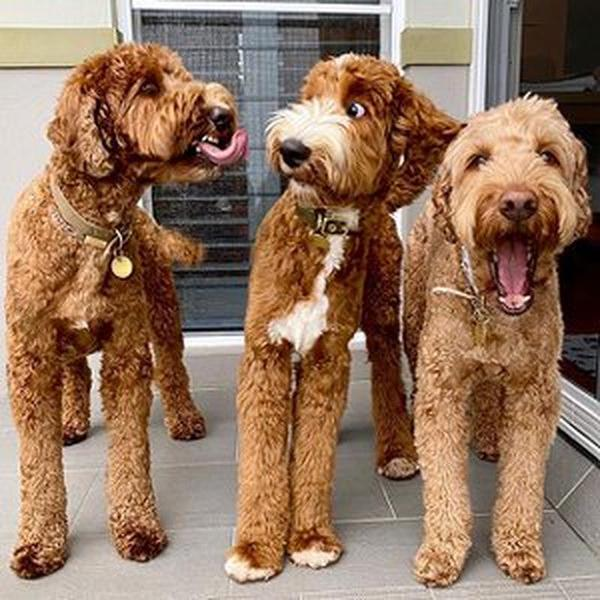allqu: (5, 35, 252, 593), (411, 84, 594, 587), (262, 35, 400, 600)
